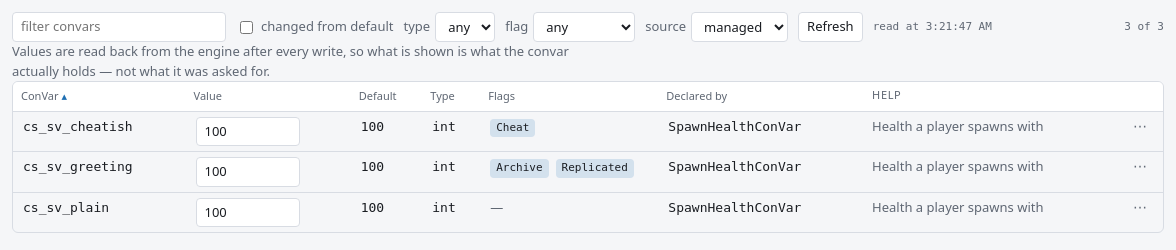
it: filtering by flag › keeps only the rows carrying it
Expected: the text "cs_sv_greeting" is shown, [13,152,186,192]
Select "Archive" in the dropdown labelled "flag": (584, 27) [533,12,635,42]
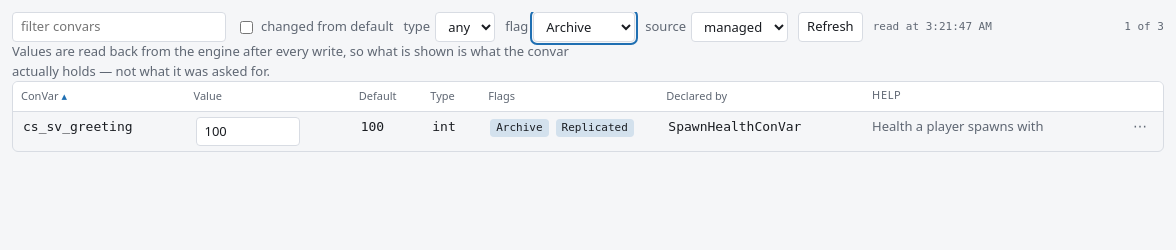
Expected: the text "cs_sv_greeting" is shown, [13,111,186,151]
Result: the text "cs_sv_cheatish" is gone
Result: the text "cs_sv_plain" is gone
